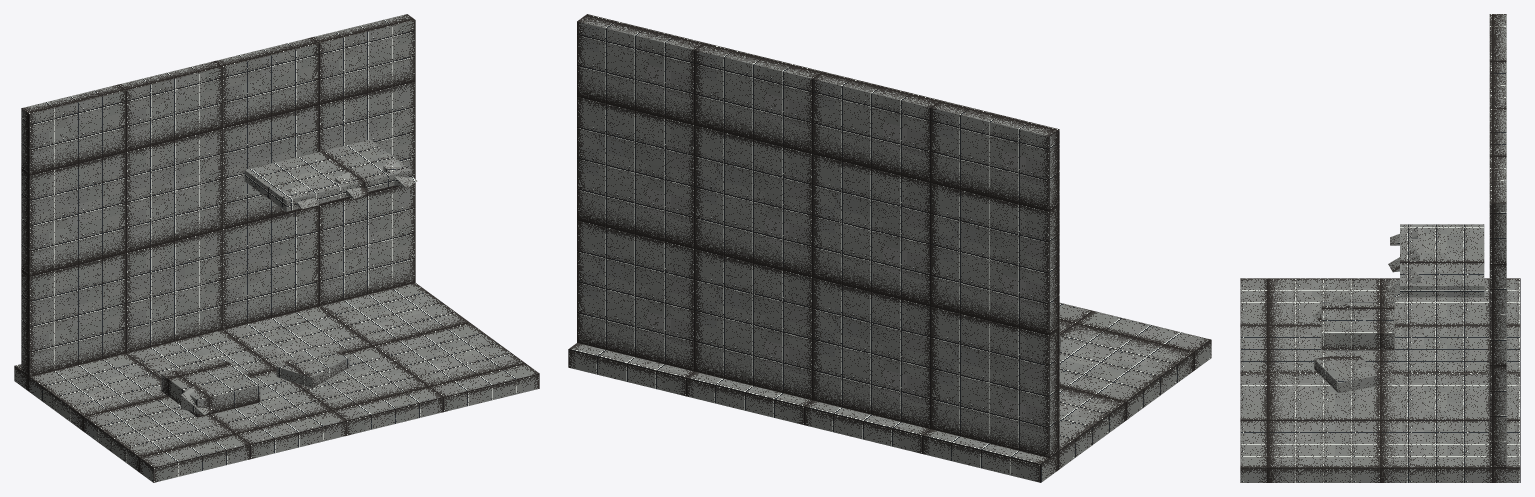
File: gate_launch_ragged.glb
3 renders of one model, left to right at view 1: azimuth 30°, elevation 25°; view 2: azimuth 150°, elevation 25°; view 3: azimuth 270°, elevation 25°, orthographic. The views are drawn at different scales.
Parts seen in each view (by area): view 1: gate_launch_ragged; view 2: gate_launch_ragged; view 3: gate_launch_ragged.
Boxes of the visible parts, left/top/right/bottom form: gate_launch_ragged: left=14, top=14, right=539, bottom=482; gate_launch_ragged: left=568, top=14, right=1211, bottom=482; gate_launch_ragged: left=1240, top=14, right=1520, bottom=482.
Bounding box in the file's own units: 8 × 5.5 × 5.
1 material, 1 textured.
